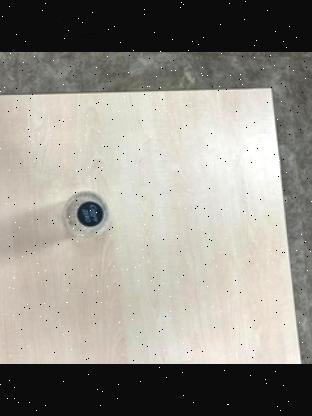Plastic Bottle: (60, 191, 113, 239)
